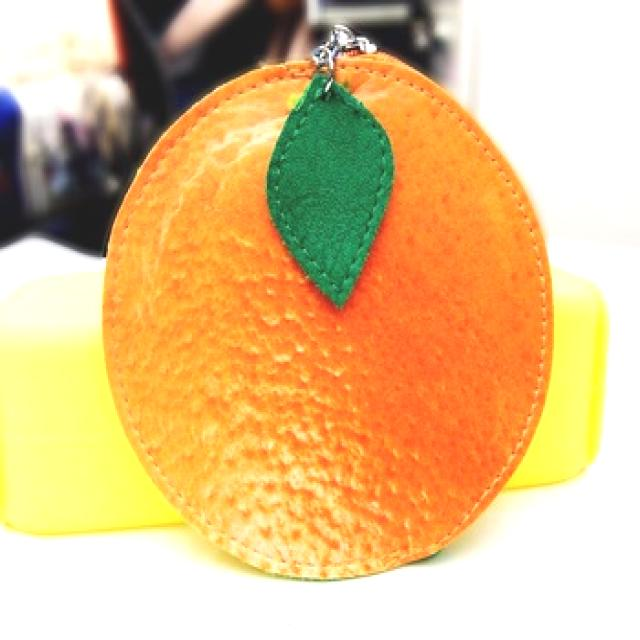orange: (92, 50, 552, 592)
